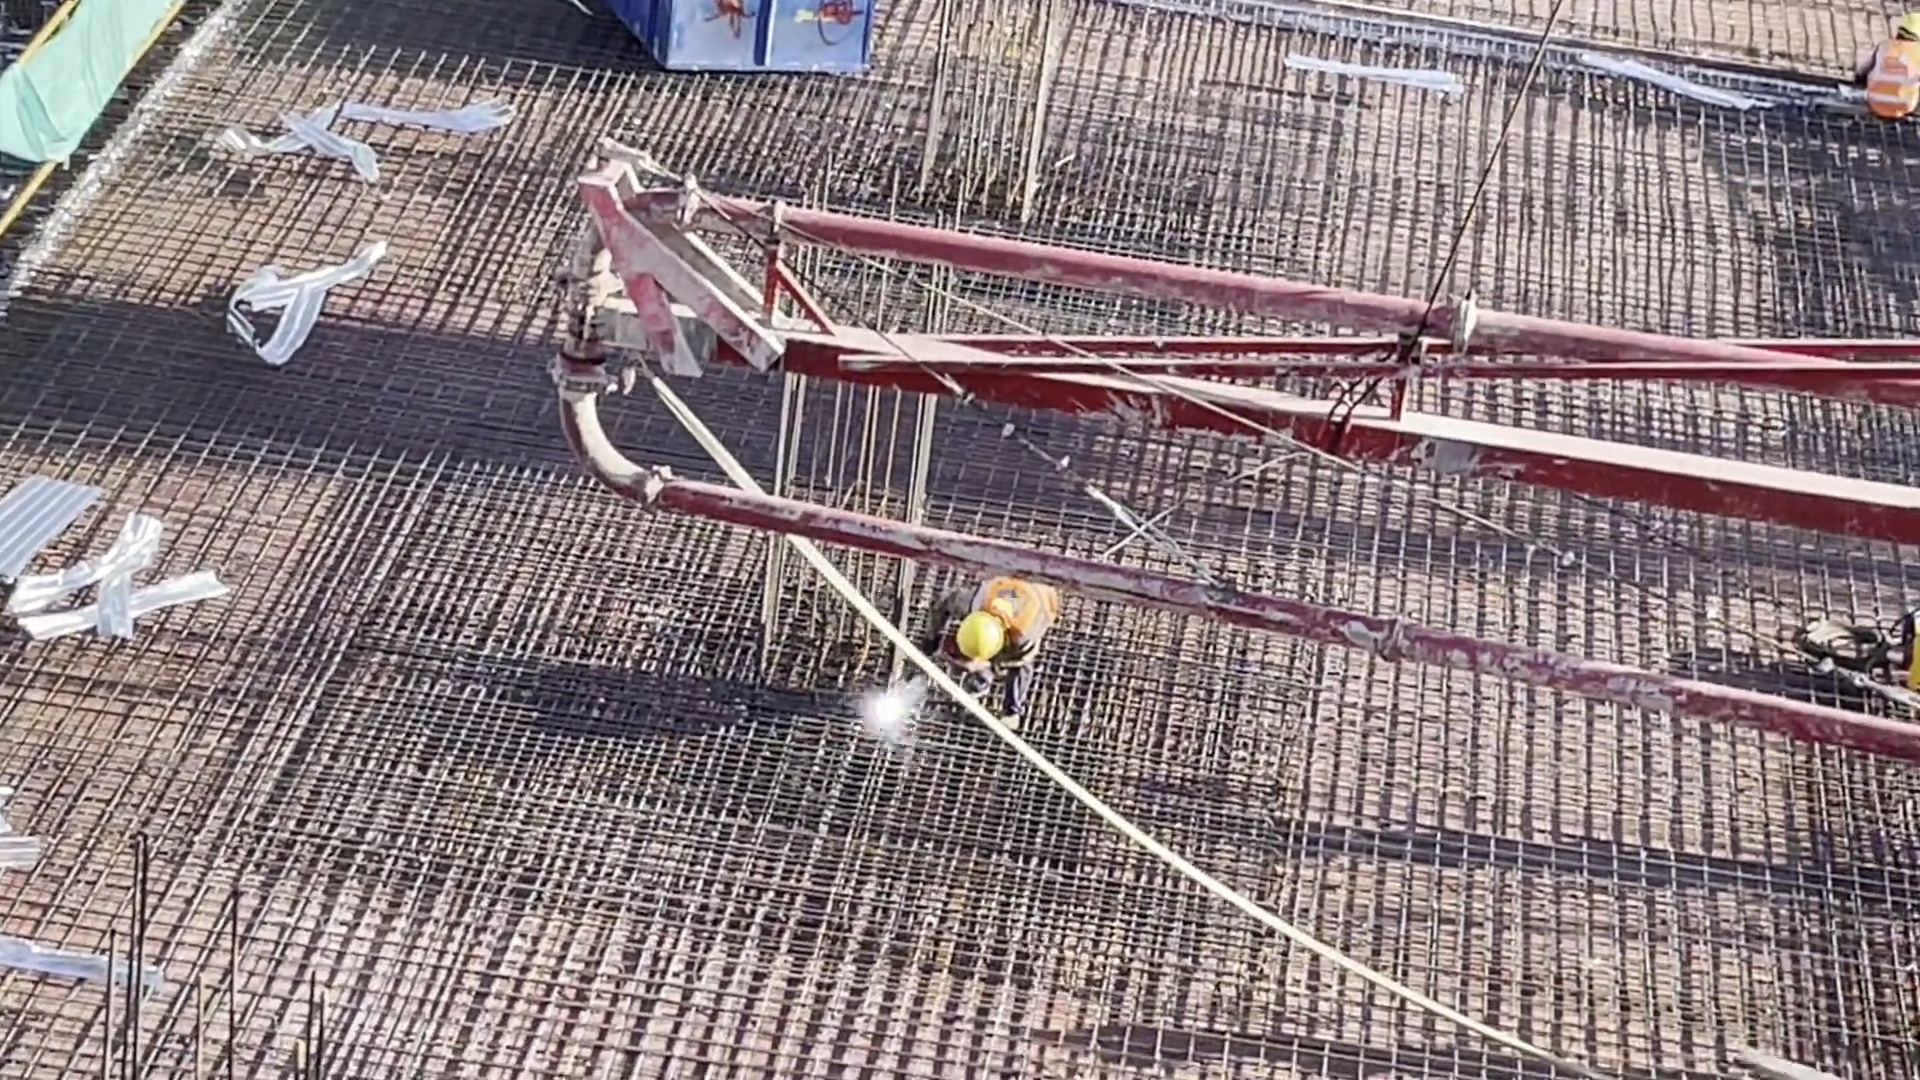helmet: (955, 616, 1008, 667), (1903, 15, 1920, 39)
hopper: (643, 1, 871, 85)
person: (938, 575, 1063, 732), (1848, 13, 1920, 139)
vest: (981, 576, 1061, 643), (1872, 39, 1919, 127)
